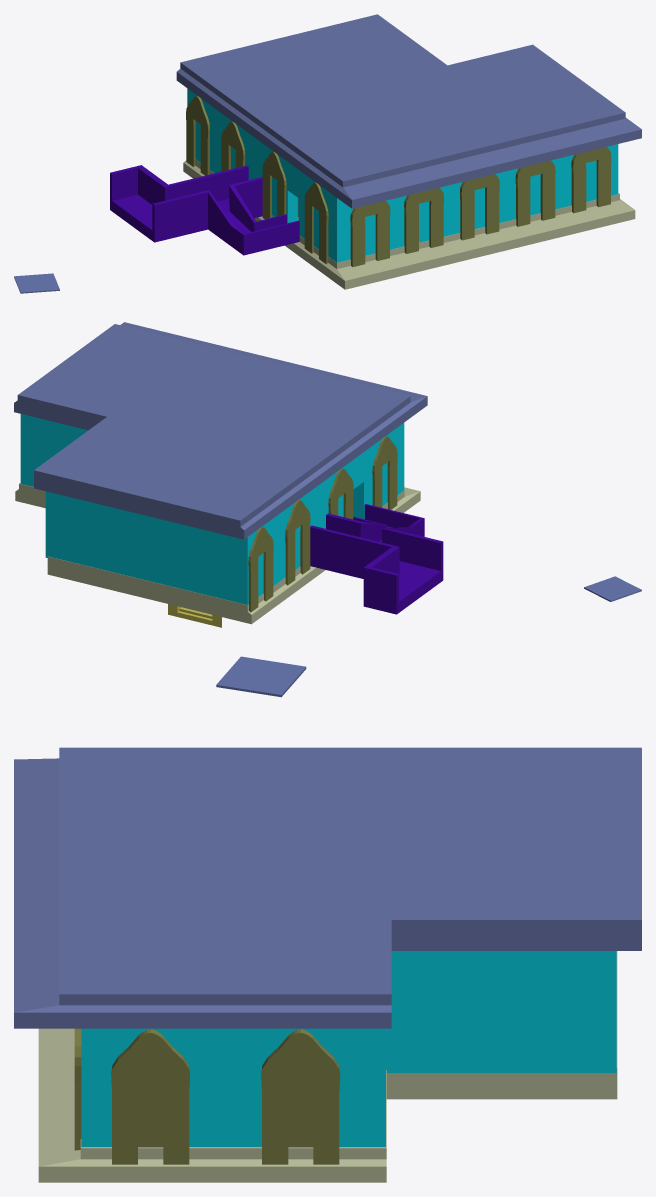
File: Temple_Right_Floor_2.fbx
3 views of the same model, one above another, from view 1: azimuth 30°, elevation 25°; view 2: azimuth 150°, elevation 25°; view 3: azimuth 270°, elevation 25° (orthographic). The views are drawn at different scales.
Parts seen in each view (by area): view 1: Roof_Right_Floor_2, Temple_Right_Floor_2, Balcony, Roof_Floor_Temple_Right, Window_4, Window_5, Window_1, Window_2, Window_3, Window_8, Window_11, Window_9 (+2 smaller); view 2: Roof_Right_Floor_2, Temple_Right_Floor_2, Balcony, Roof_Floor_Temple_Right, Window_10, Window_11, Window_8, Window_9, grid_lattice_Low, Stairs_Big_Floor_2_Temple_Right; view 3: Roof_Right_Floor_2, Temple_Right_Floor_2, Roof_Floor_Temple_Right, Window_7, Window_6, grid_lattice_Low, Window_5.
Boxes of the visible parts, x1=… form: Roof_Right_Floor_2: x1=176, y1=14, x2=641, y2=208; Temple_Right_Floor_2: x1=187, y1=88, x2=618, y2=262; Balcony: x1=110, y1=165, x2=299, y2=255; Roof_Floor_Temple_Right: x1=183, y1=159, x2=635, y2=289; Window_4: x1=515, y1=160, x2=555, y2=226; Window_5: x1=571, y1=147, x2=611, y2=213; Window_1: x1=350, y1=201, x2=390, y2=266; Window_2: x1=404, y1=187, x2=443, y2=253; Window_3: x1=460, y1=174, x2=499, y2=240; Window_8: x1=304, y1=182, x2=328, y2=264; Window_11: x1=186, y1=96, x2=209, y2=175; Window_9: x1=262, y1=152, x2=286, y2=219; Roof_Right_Floor_2: x1=14, y1=322, x2=427, y2=539; Temple_Right_Floor_2: x1=20, y1=414, x2=404, y2=604; Balcony: x1=310, y1=504, x2=443, y2=614; Roof_Floor_Temple_Right: x1=15, y1=483, x2=420, y2=624; Window_10: x1=285, y1=500, x2=310, y2=585; Window_11: x1=248, y1=527, x2=273, y2=612; Window_8: x1=372, y1=436, x2=397, y2=509; Window_9: x1=328, y1=468, x2=353, y2=519; grid_lattice_Low: x1=584, y1=576, x2=641, y2=601; Stairs_Big_Floor_2_Temple_Right: x1=168, y1=604, x2=221, y2=627; Roof_Right_Floor_2: x1=14, y1=747, x2=641, y2=1028; Temple_Right_Floor_2: x1=81, y1=951, x2=616, y2=1146; Roof_Floor_Temple_Right: x1=38, y1=951, x2=617, y2=1182; Window_7: x1=261, y1=1029, x2=340, y2=1164; Window_6: x1=111, y1=1029, x2=189, y2=1164; grid_lattice_Low: x1=216, y1=656, x2=306, y2=697; Window_5: x1=74, y1=1028, x2=81, y2=1150.
Size of the model in its own units: 5562 by 1272 by 3026.
